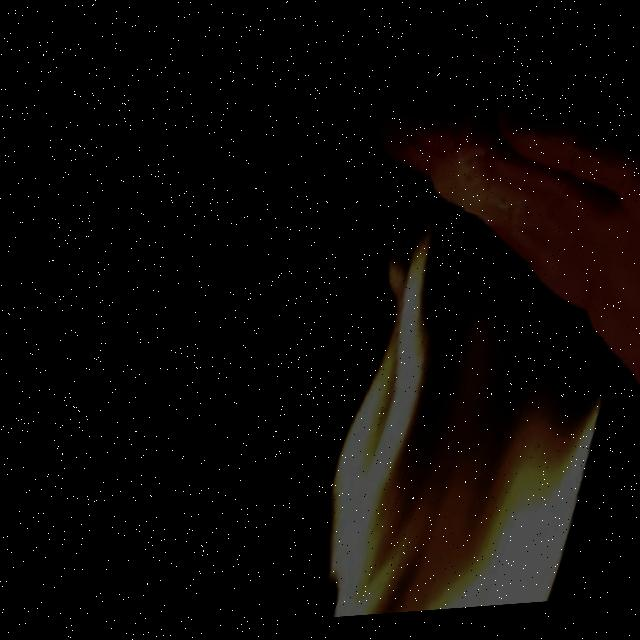Fire: (229, 133, 640, 627)
